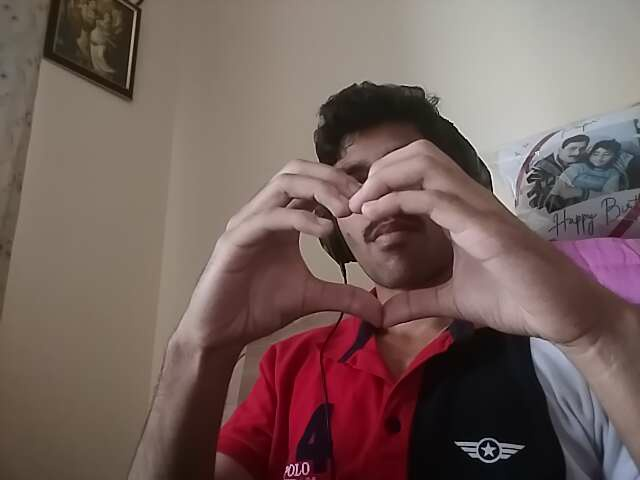I Love You: (181, 141, 595, 371)
